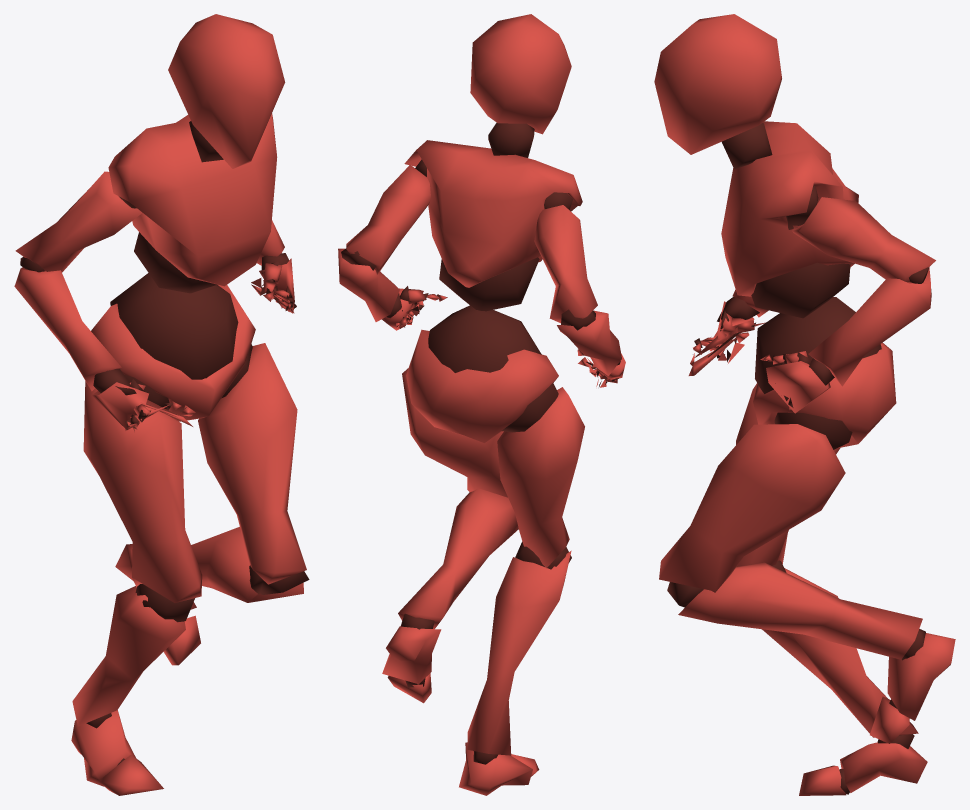
The picture shows the model from 3 angles, left to right: view 1: azimuth 30°, elevation 25°; view 2: azimuth 150°, elevation 25°; view 3: azimuth 270°, elevation 25°; orthographic projection. The views are drawn at different scales.
Visible parts, largest first — view 1: Beta_Surface.001; view 2: Beta_Surface.001; view 3: Beta_Surface.001.
Boxes of the visible parts, left/top/right/bottom form: Beta_Surface.001: left=14, top=14, right=309, bottom=795; Beta_Surface.001: left=338, top=14, right=625, bottom=795; Beta_Surface.001: left=654, top=14, right=955, bottom=795.
Bounding box in the file's own units: 4.97 × 14.53 × 4.97.
